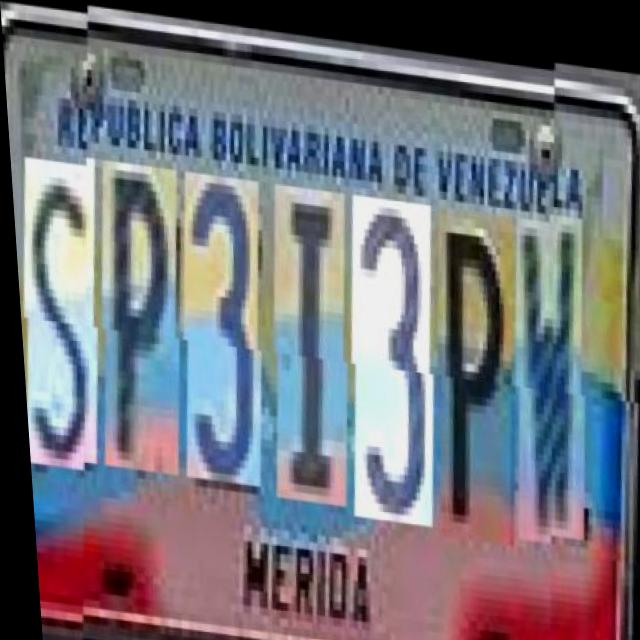3: (338, 184, 452, 514), (172, 166, 279, 480)
i: (261, 175, 365, 498)
p: (422, 194, 533, 532), (89, 156, 196, 470)
s: (13, 148, 114, 463)
w: (501, 202, 602, 531)
